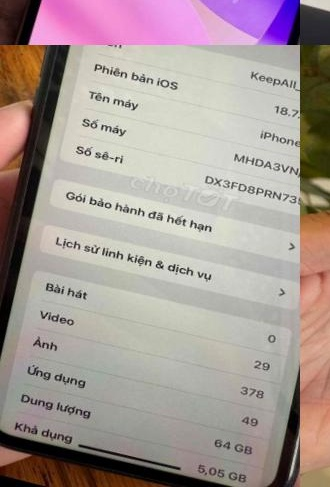scratch: (276, 326, 300, 487)
